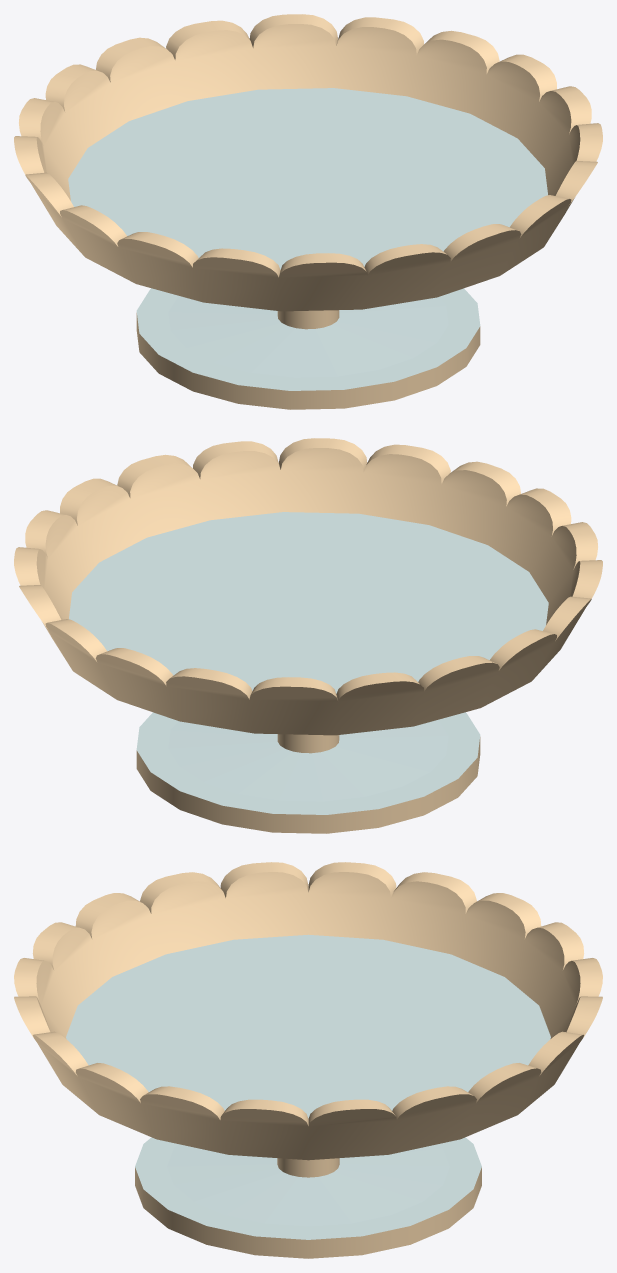
File: SM_Stand.fbx
3 views of the same model, one above another, from view 1: azimuth 30°, elevation 25°; view 2: azimuth 150°, elevation 25°; view 3: azimuth 270°, elevation 25° (orthographic).
Visible parts, largest first — view 1: SM_stand; view 2: SM_stand; view 3: SM_stand.
Boxes of the visible parts, <box> form: SM_stand: <box>14,14,602,409</box>; SM_stand: <box>14,438,602,833</box>; SM_stand: <box>14,862,602,1258</box>.
Bounding box in the file's own units: 512 × 191 × 512.
1 material, 1 textured.
